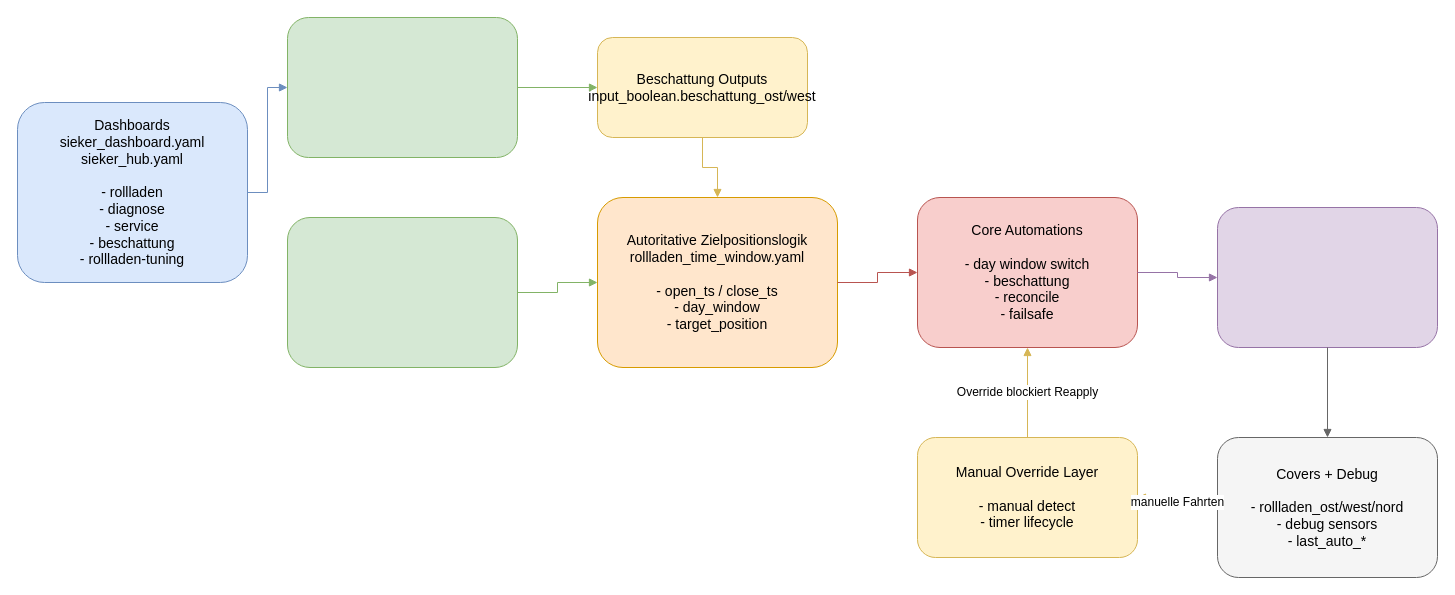
Some shapes in this 1455 by 595 pixel diagram are drawn without their labels. Each missing label, with the centre of its shape:
"Apply Scripts - set_position - apply_ost - apply_west - apply_nord" goes at point (1327, 277).
"Beschattung Helper + Templates - Parameter - Freigaben - Ost/West aktiv" goes at point (402, 87).
"Rolladen Helpers - Zeitfenster - Offsets - Override-Booleans - Timer" goes at point (402, 292).
